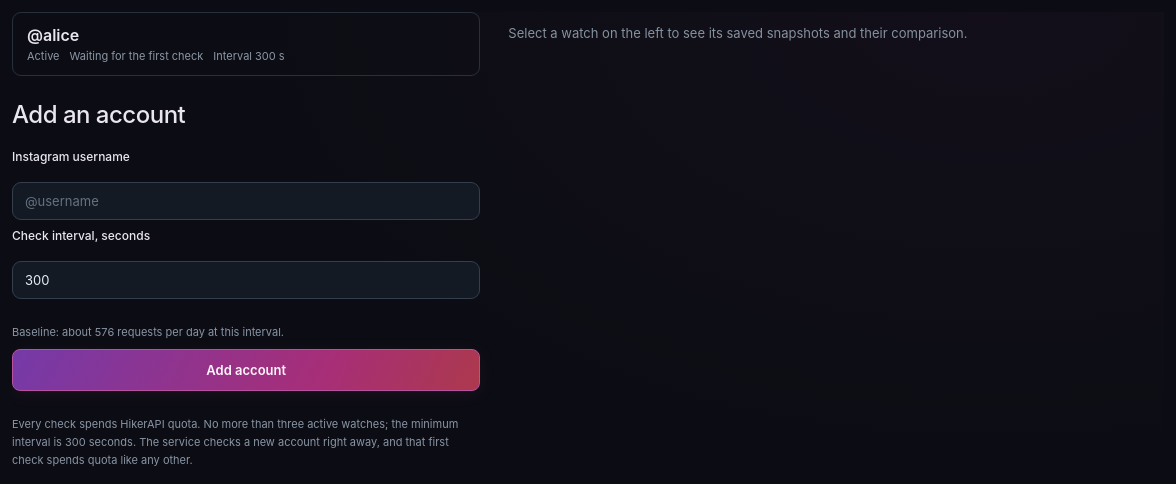
Test: watches view › keeps the loaded history across a poll that brought no new check
Click the option "@alice Active Waiting for the first check Interval 300 s" at (53, 35), box x1=12 y1=12 x2=480 y2=76
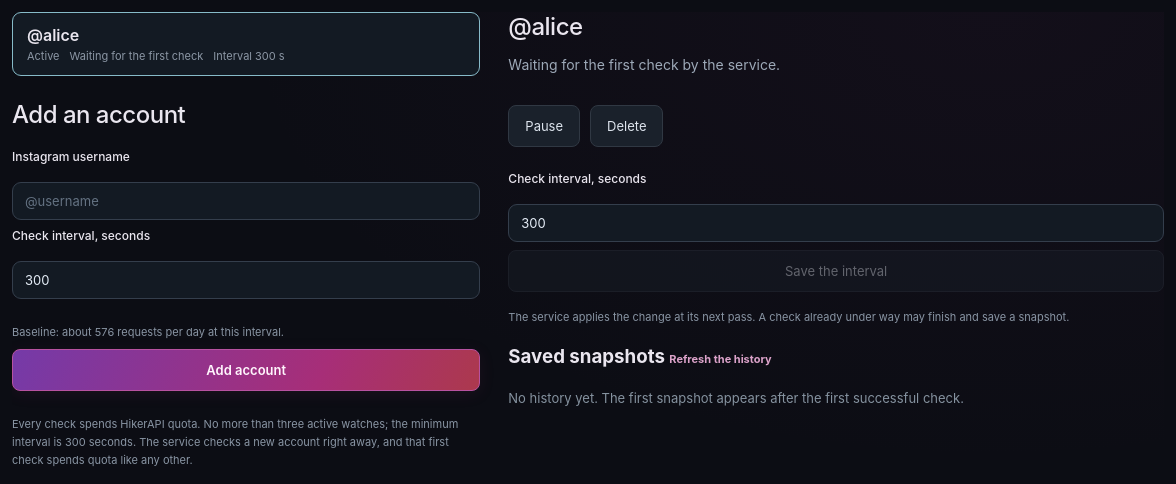
Result: the text "No history yet" is shown at x1=508 y1=390 x2=964 y2=406
